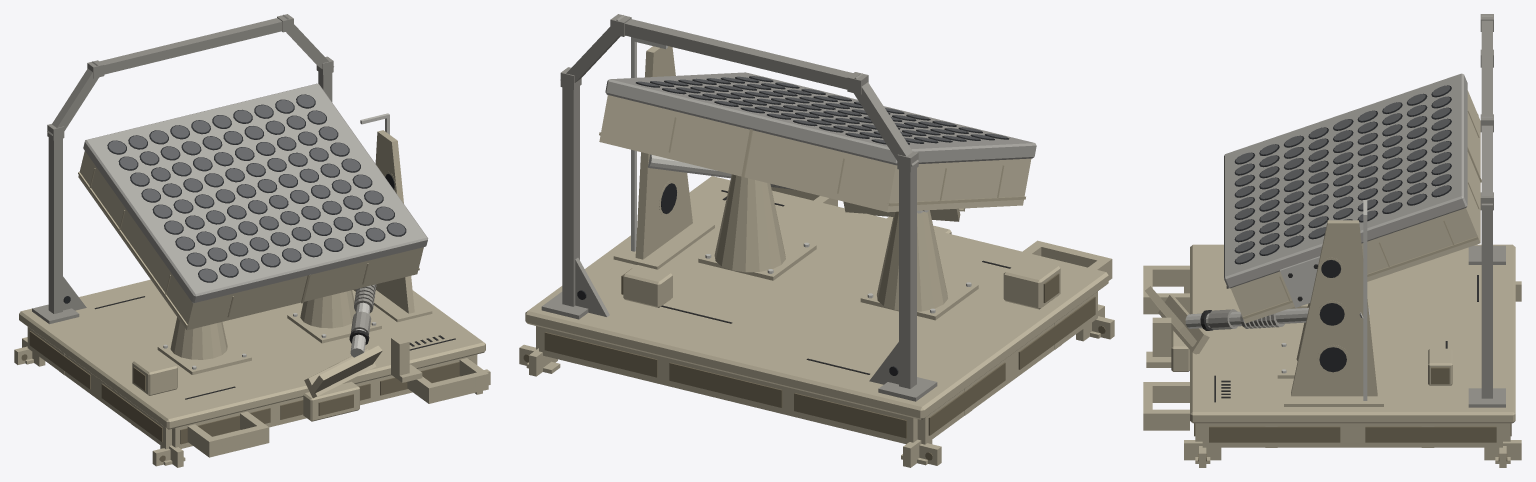
The model's file is laser_retroreflector.glb.
The picture shows the model from 3 angles, left to right: view 1: azimuth 30°, elevation 25°; view 2: azimuth 150°, elevation 25°; view 3: azimuth 270°, elevation 25°; orthographic projection. The views are drawn at different scales.
Visible parts, largest first — view 1: laser_retroreflector; view 2: laser_retroreflector; view 3: laser_retroreflector.
Boxes of the visible parts, x1=… form: laser_retroreflector: x1=14, y1=14, x2=490, y2=467; laser_retroreflector: x1=519, y1=14, x2=1114, y2=467; laser_retroreflector: x1=1143, y1=14, x2=1521, y2=467.
Bounding box in the file's own units: 0.67 × 0.5527 × 0.605.
